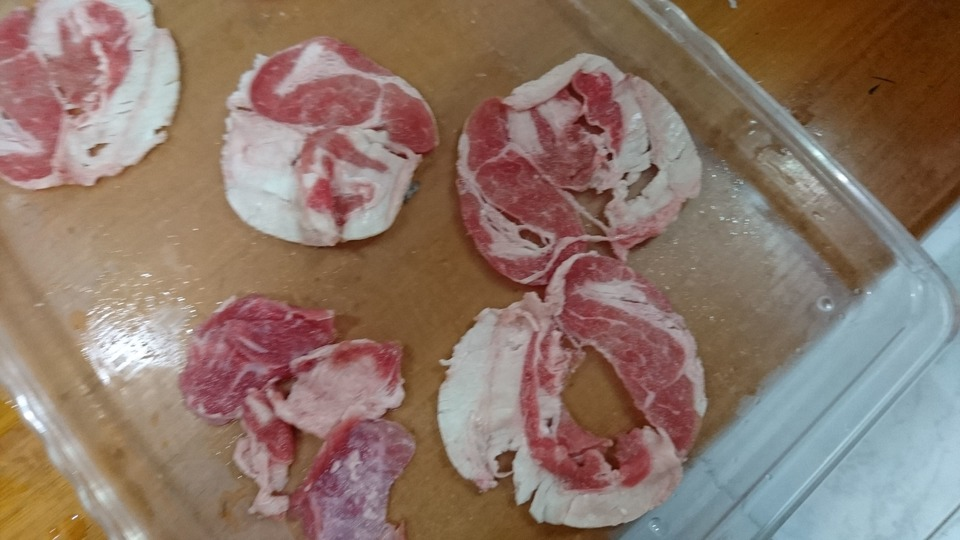restructured meat: (439, 280, 719, 526), (447, 53, 705, 289), (179, 287, 416, 540), (221, 32, 436, 251), (1, 1, 183, 189)
